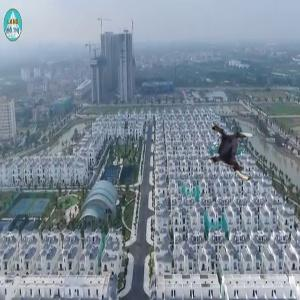drone: (202, 122, 262, 182)
